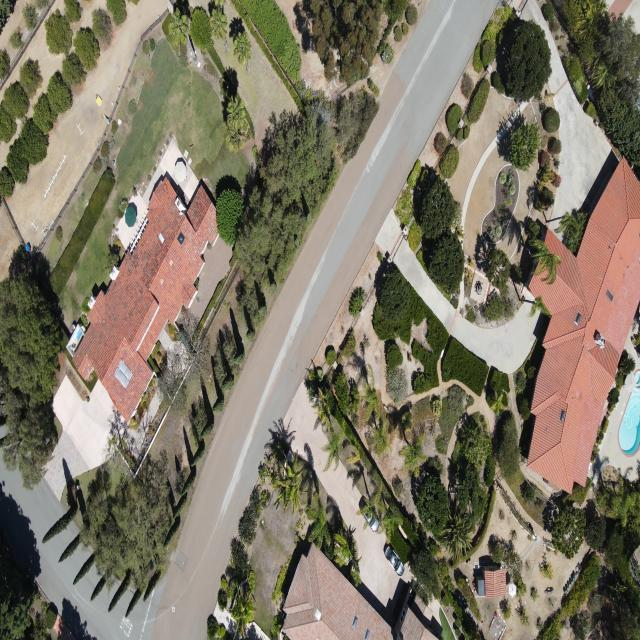solar-panels: (110, 359, 138, 389)
